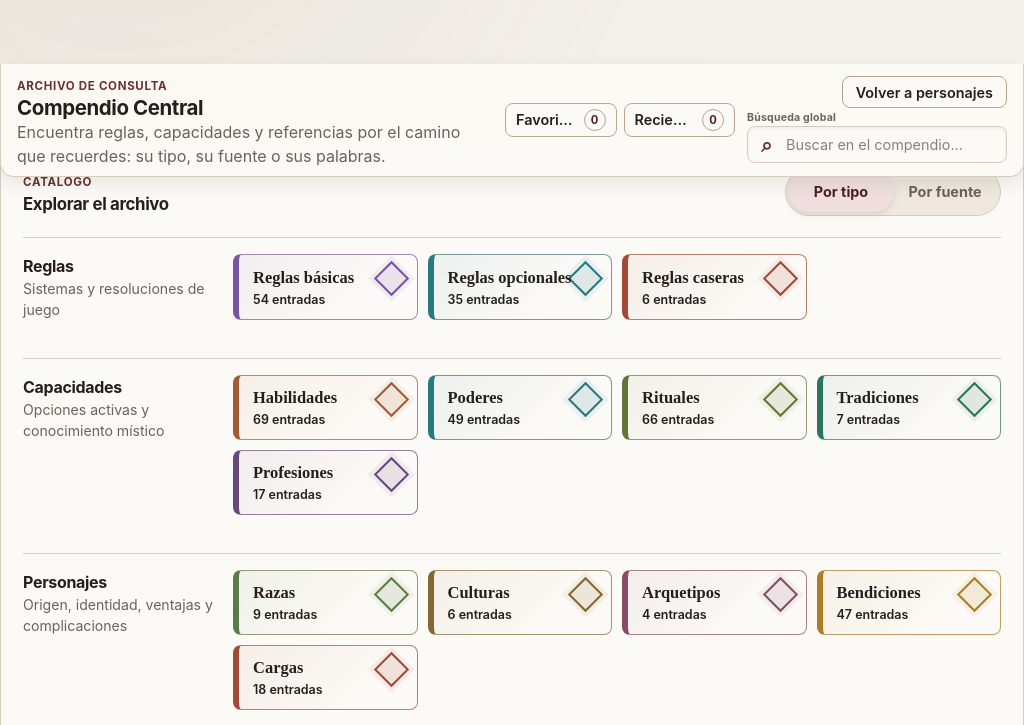
CompendiumView library › opens a type section and returns to the cover after clearing filters
The width and height of the screenshot is (1024, 725).
Click the button "Habilidades 69 entradas" at (325, 408), box x1=233 y1=375 x2=418 y2=440
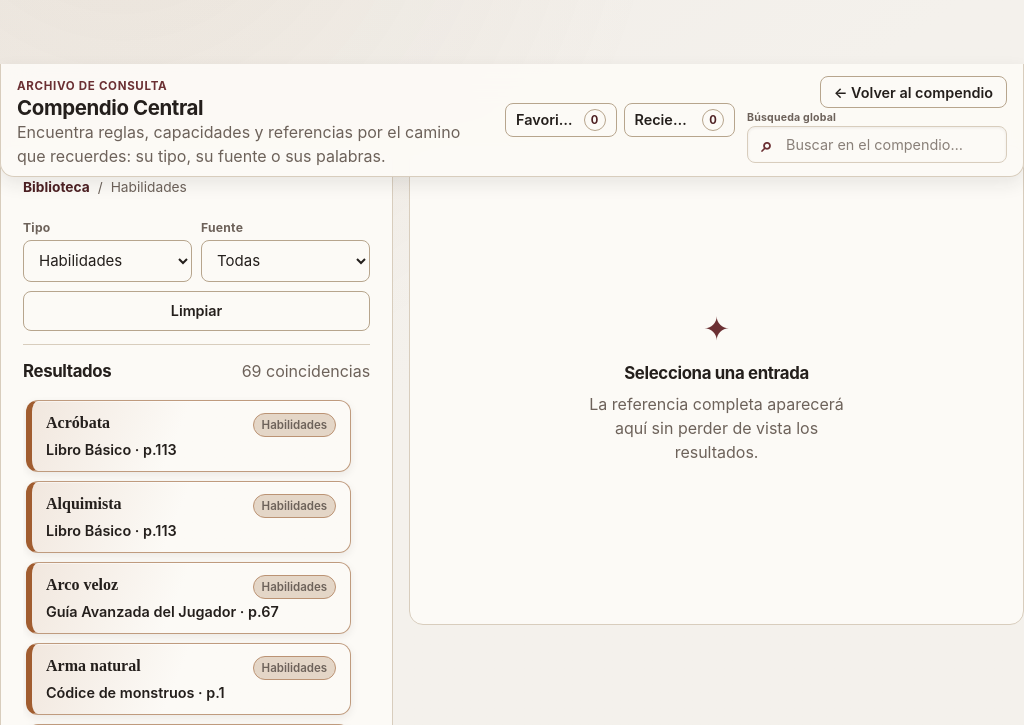
Expected: the heading "Resultados" is shown, x1=23 y1=359 x2=111 y2=384
Expected: the dropdown labelled "Tipo" shows "Habilidades", x1=23 y1=240 x2=192 y2=282
Expected: the button with class "app-card-accent--habilidad" that starts with "Acróbata" is shown, x1=26 y1=400 x2=351 y2=472
Click the button "← Volver al compendio" at (913, 92), box x1=820 y1=76 x2=1007 y2=108
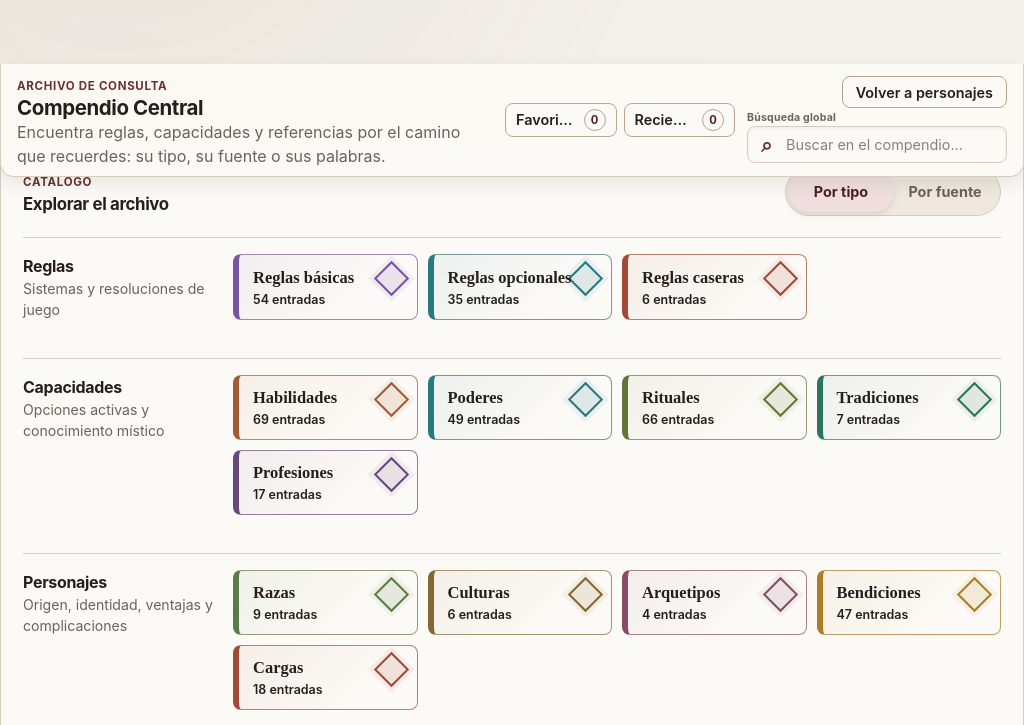
Expected: the heading "Explorar el archivo" is shown, x1=23 y1=192 x2=169 y2=217
Expected: the button "Volver a personajes" is shown, x1=842 y1=76 x2=1007 y2=108
